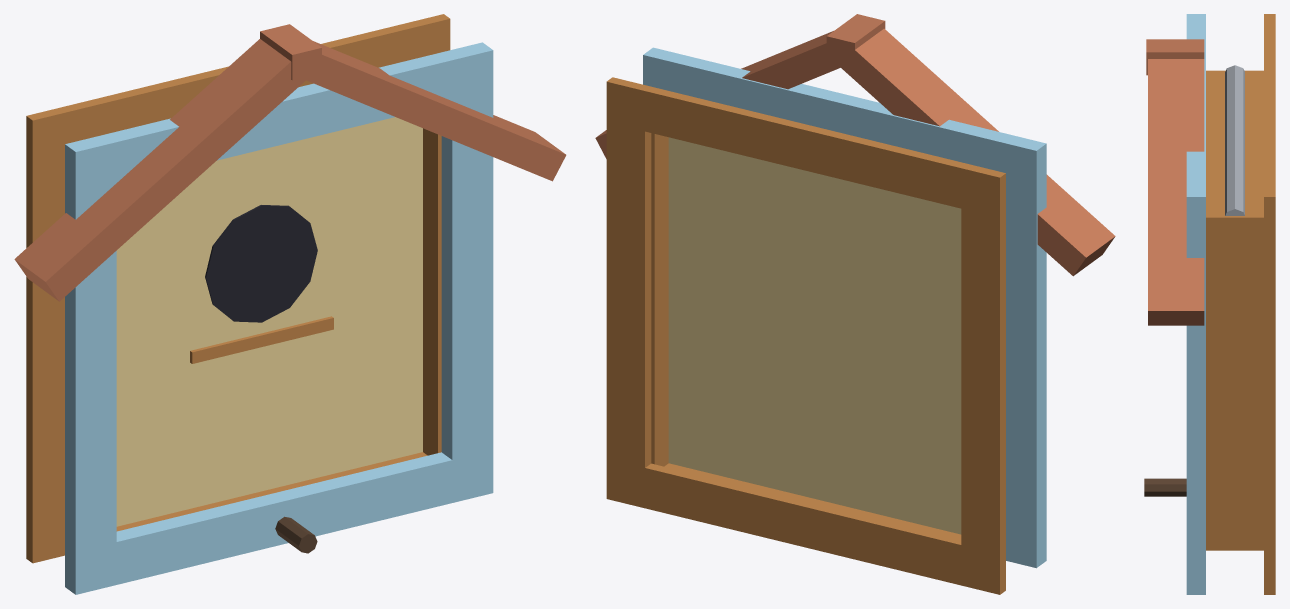
The model's file is CatCafe_CatFlap_Birdhouse.glb.
3 views of the same model, side by side, from view 1: azimuth 30°, elevation 25°; view 2: azimuth 150°, elevation 25°; view 3: azimuth 270°, elevation 25° (orthographic). The views are drawn at different scales.
Parts seen in each view (by area): view 1: CatCafe_CatFlap_Birdhouse, CatCafe_CatFlap_Birdhouse_Flap; view 2: CatCafe_CatFlap_Birdhouse, CatCafe_CatFlap_Birdhouse_Flap; view 3: CatCafe_CatFlap_Birdhouse, CatCafe_CatFlap_Birdhouse_Flap.
Part boxes in pixels (<box>): CatCafe_CatFlap_Birdhouse: <box>14,14,566,594</box>; CatCafe_CatFlap_Birdhouse_Flap: <box>116,117,422,526</box>; CatCafe_CatFlap_Birdhouse: <box>595,14,1115,594</box>; CatCafe_CatFlap_Birdhouse_Flap: <box>668,137,961,534</box>; CatCafe_CatFlap_Birdhouse: <box>1144,14,1275,594</box>; CatCafe_CatFlap_Birdhouse_Flap: <box>1225,65,1244,215</box>.
Size of the model in its own units: 2.79 by 2.61 by 0.68.
1 material, 1 textured.
